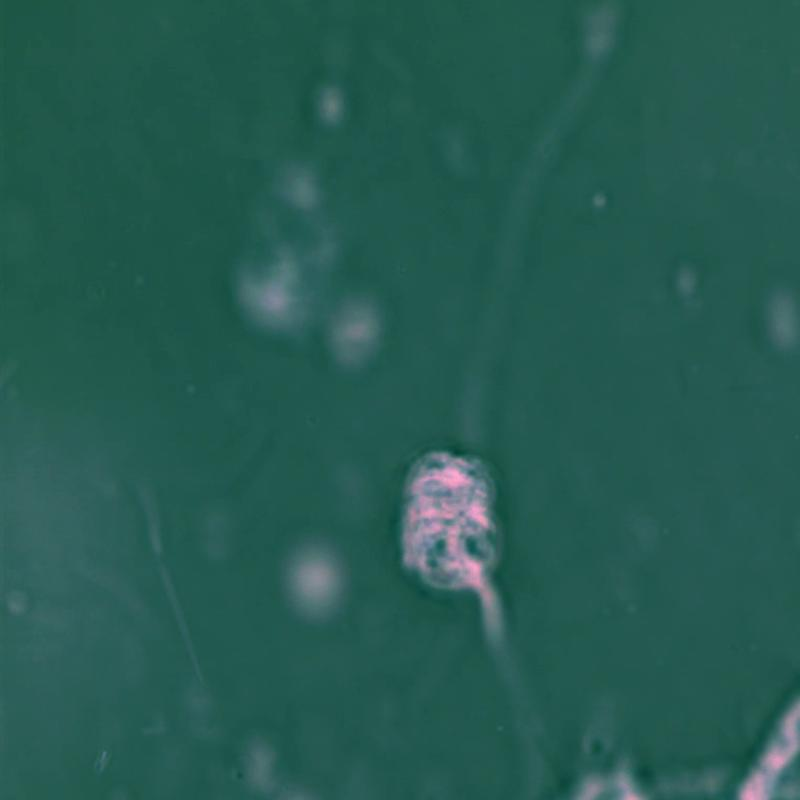depth:60: (372, 422, 572, 686)
